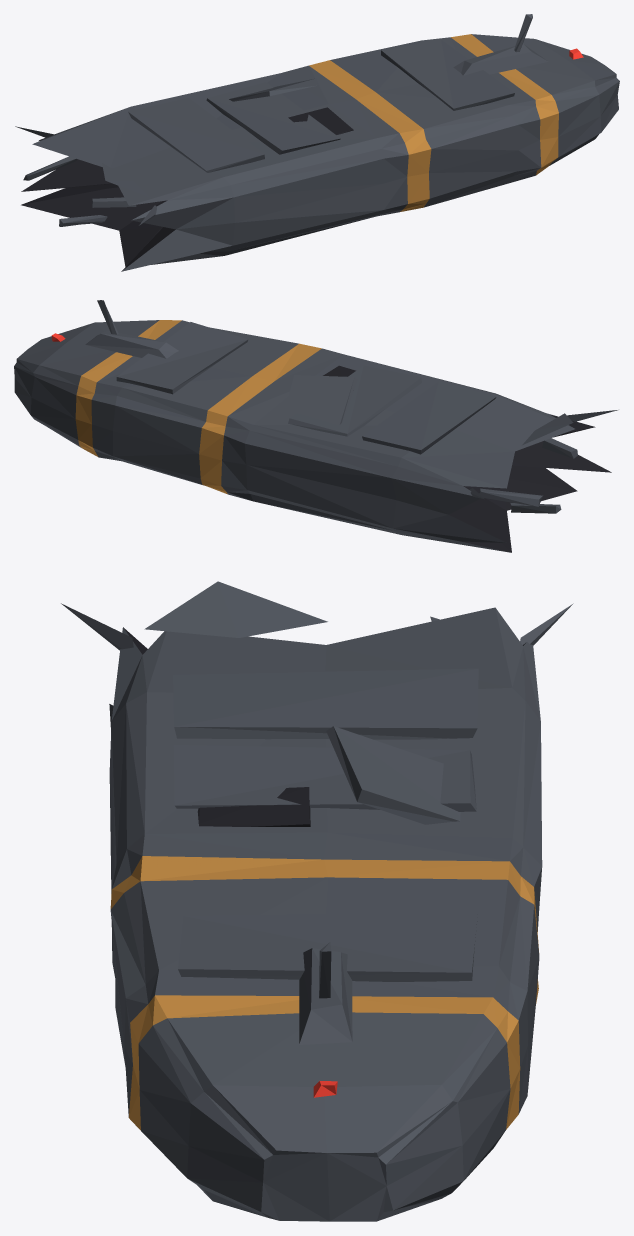
The model's file is SM_Wreck_Bow.fbx.
3 views of the same model, one above another, from view 1: azimuth 30°, elevation 25°; view 2: azimuth 150°, elevation 25°; view 3: azimuth 270°, elevation 25° (orthographic). The views are drawn at different scales.
Visible parts, largest first — view 1: SM_Wreck_Bow; view 2: SM_Wreck_Bow; view 3: SM_Wreck_Bow.
Part boxes in pixels (bbox=[...]): SM_Wreck_Bow: bbox=[15, 14, 619, 271]; SM_Wreck_Bow: bbox=[14, 300, 617, 552]; SM_Wreck_Bow: bbox=[61, 581, 573, 1221].
Size of what is drawn, in the model's own units: 883 by 363 by 188.
